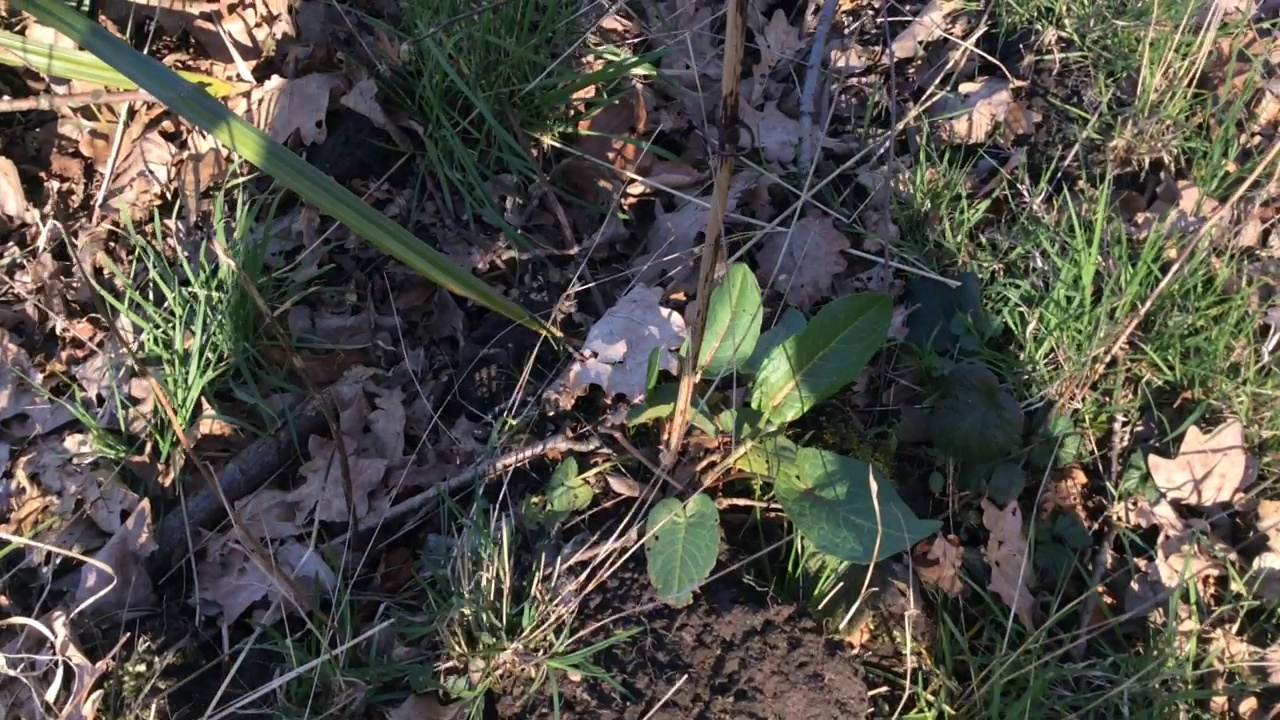rumex: (537, 262, 937, 608)
